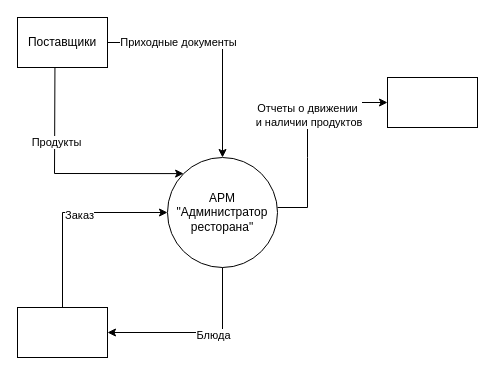
The diagram is 495 pixels wide and 375 high, and some of its shapes have lost their labels. Here are the shapes that lost their labels. From the top down, the box of each, then its label:
(386, 76, 478, 128): Отдел учета
(16, 306, 108, 358): Клиенты
